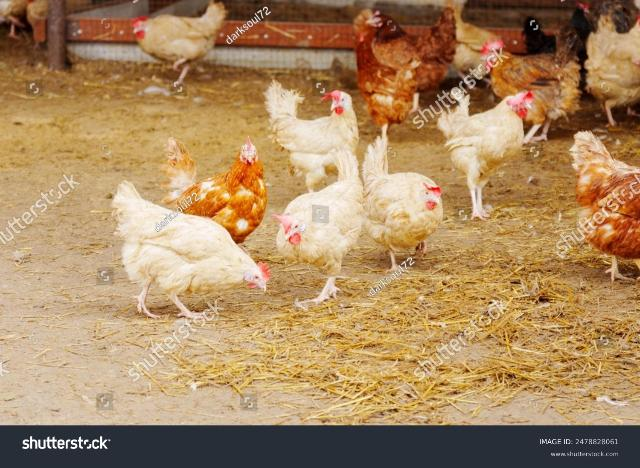Chicken: (110, 176, 272, 321), (272, 146, 368, 307), (435, 83, 538, 220), (161, 135, 271, 248), (363, 123, 445, 273), (266, 76, 362, 198), (571, 125, 640, 282), (484, 38, 584, 144), (368, 9, 459, 113), (131, 1, 229, 91), (583, 12, 640, 128)
